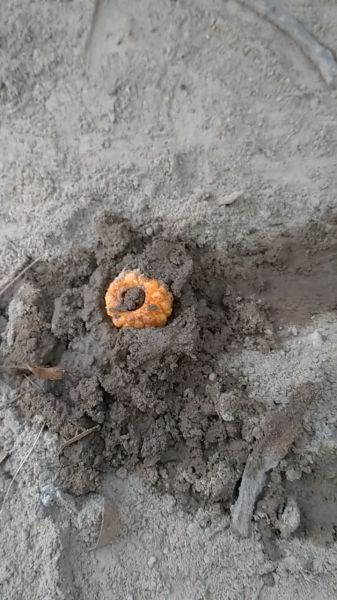eggs: (100, 267, 175, 334)
